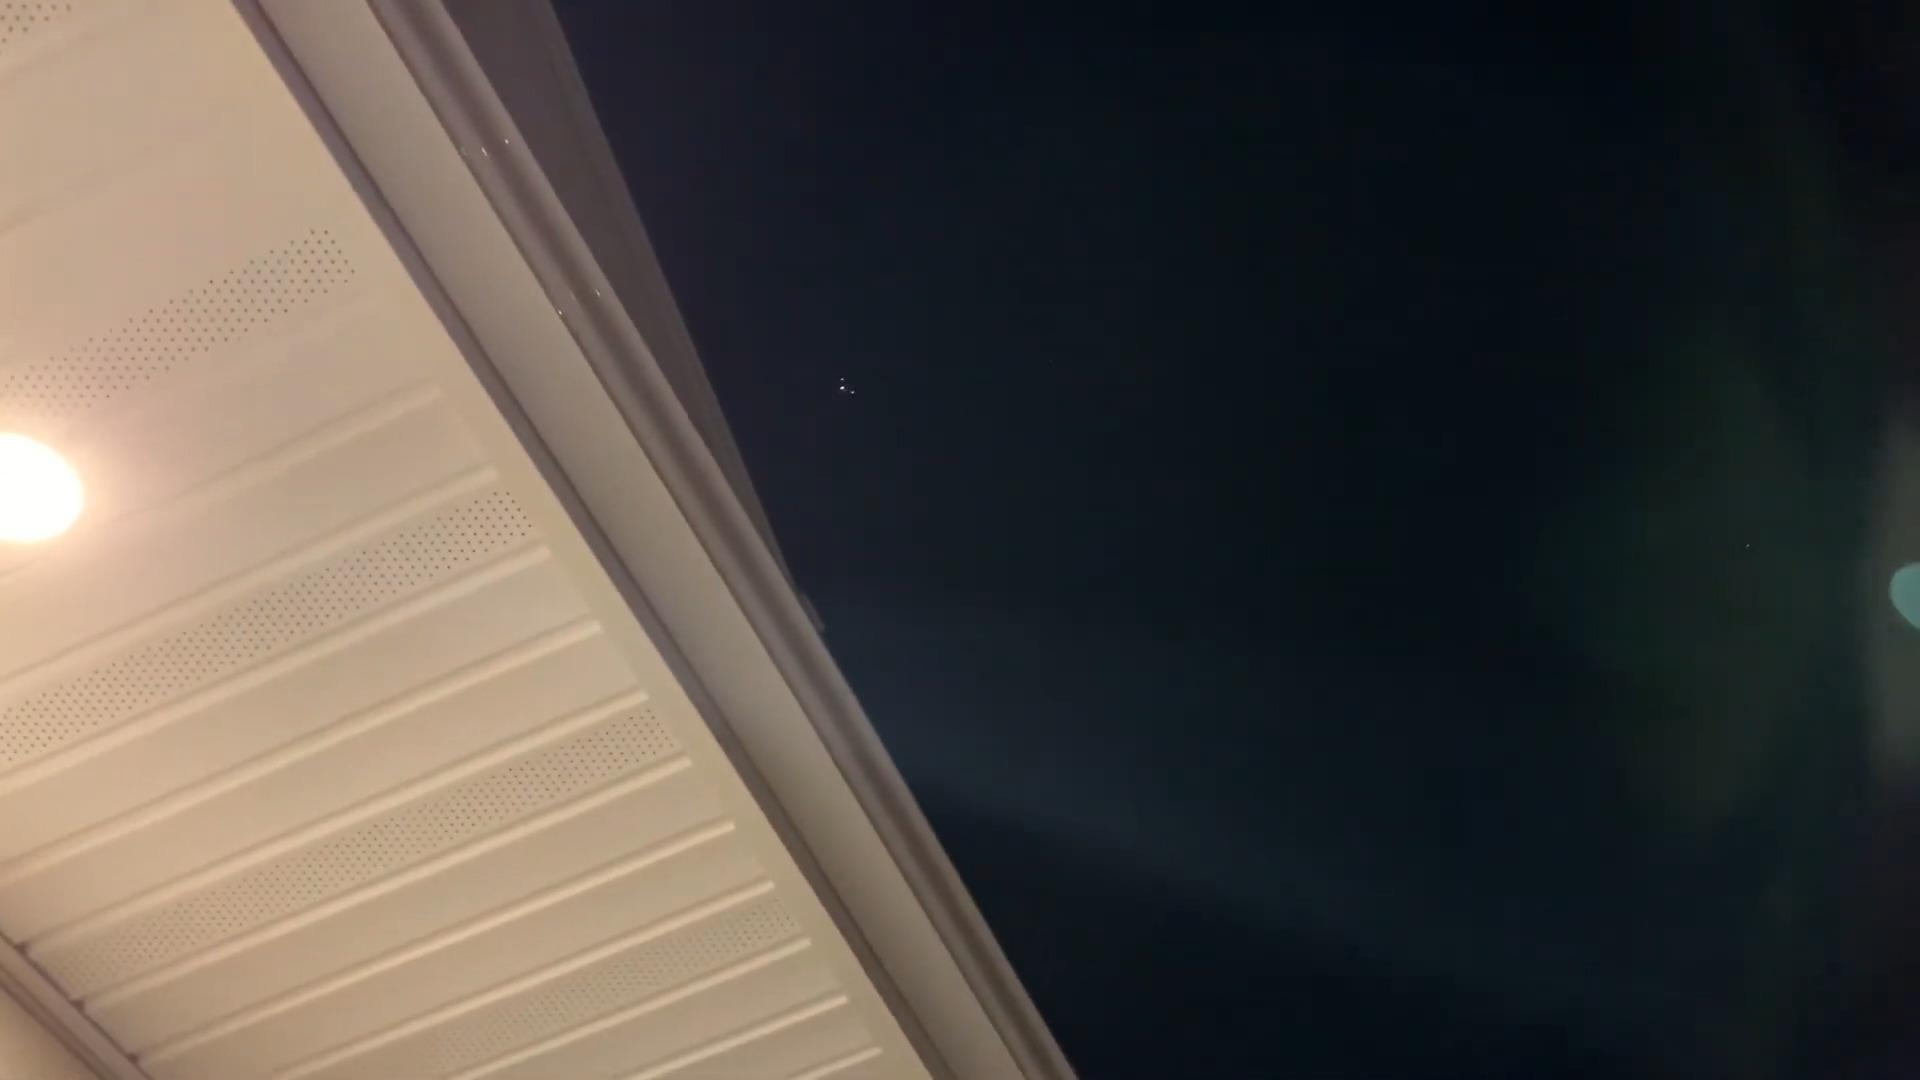Plane: (825, 353, 876, 418)
